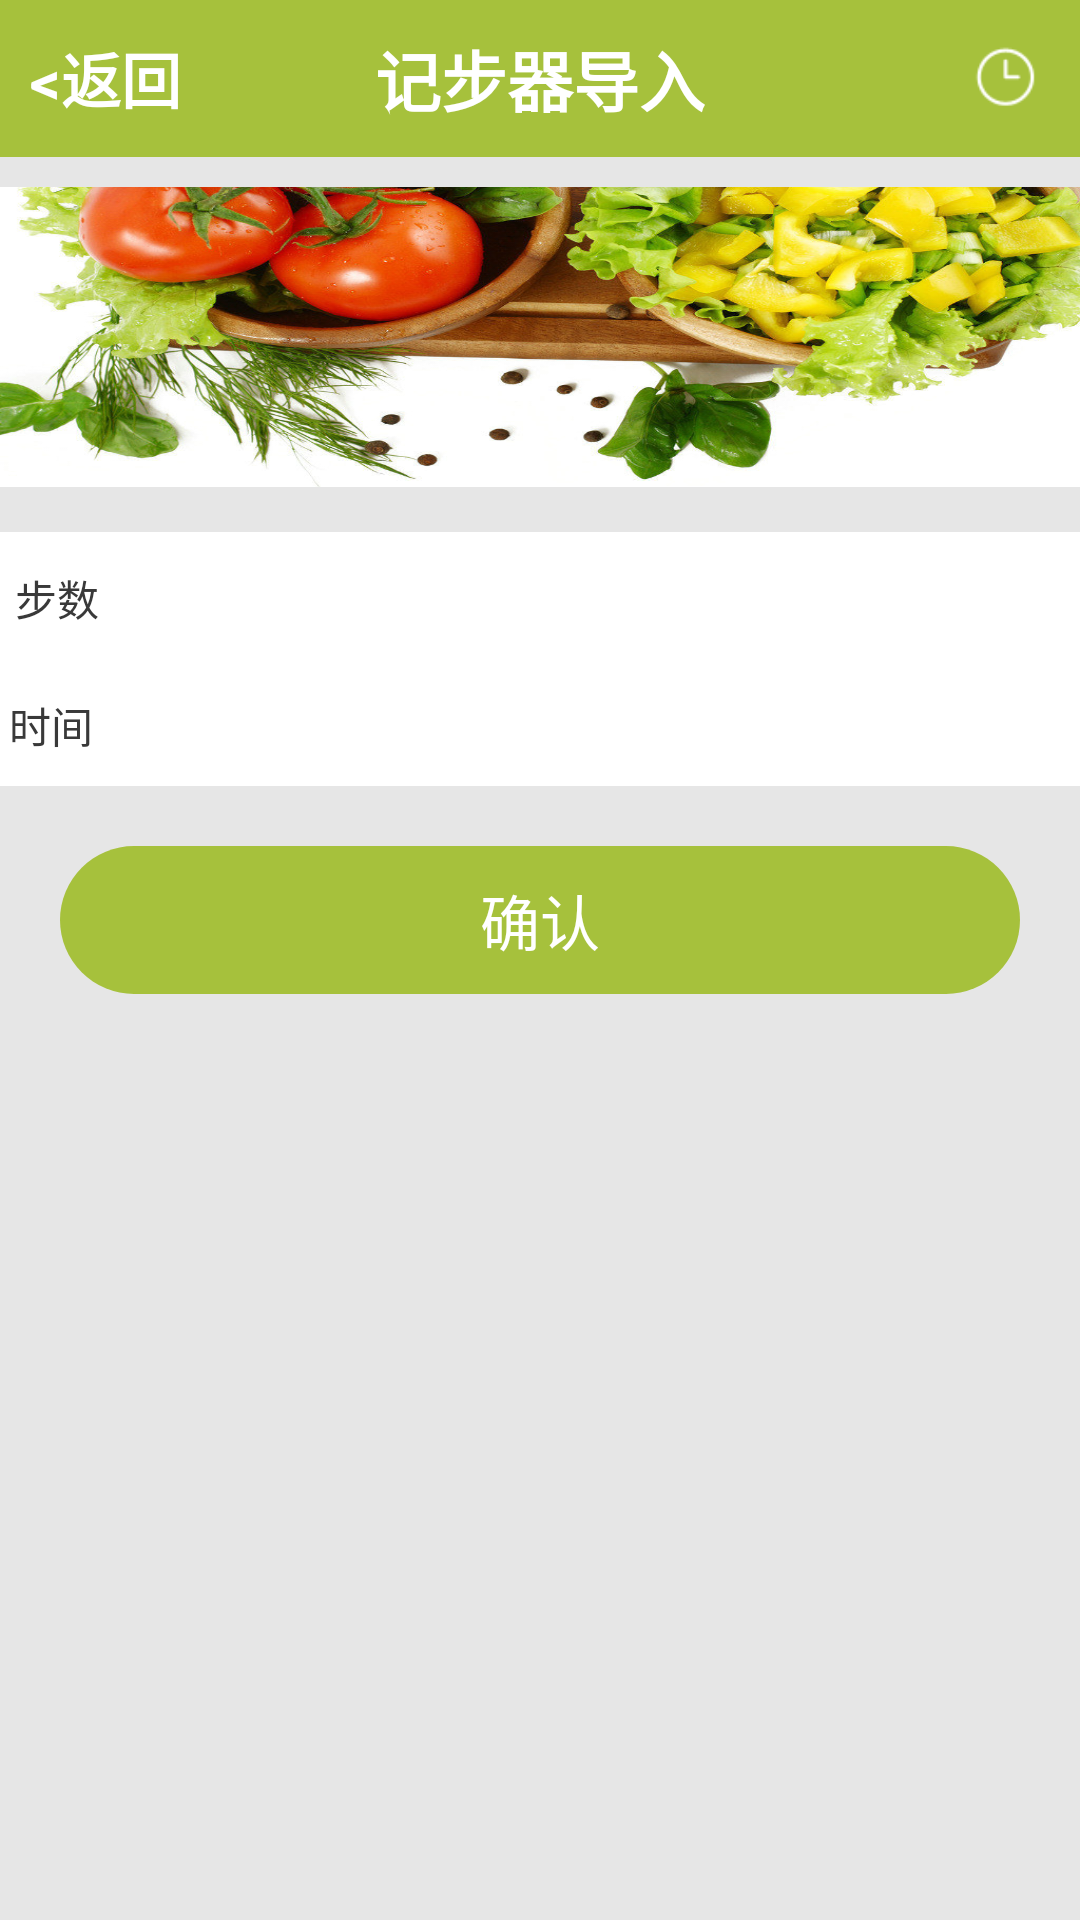

Locate icon controls on the screen. Image size 1080 x 1920, boxes as (x1, y1, x2, y2).
pocket clock: (976, 47, 1035, 106)
